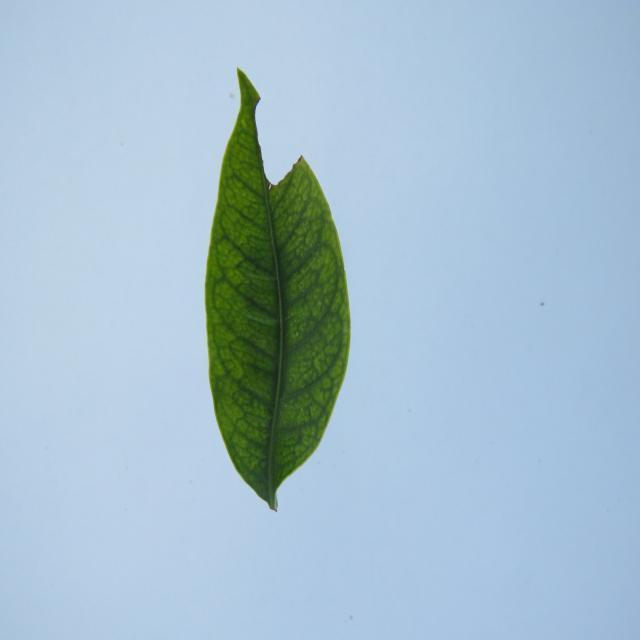DeficienciaNutricional-Hierro: (205, 70, 350, 510)
